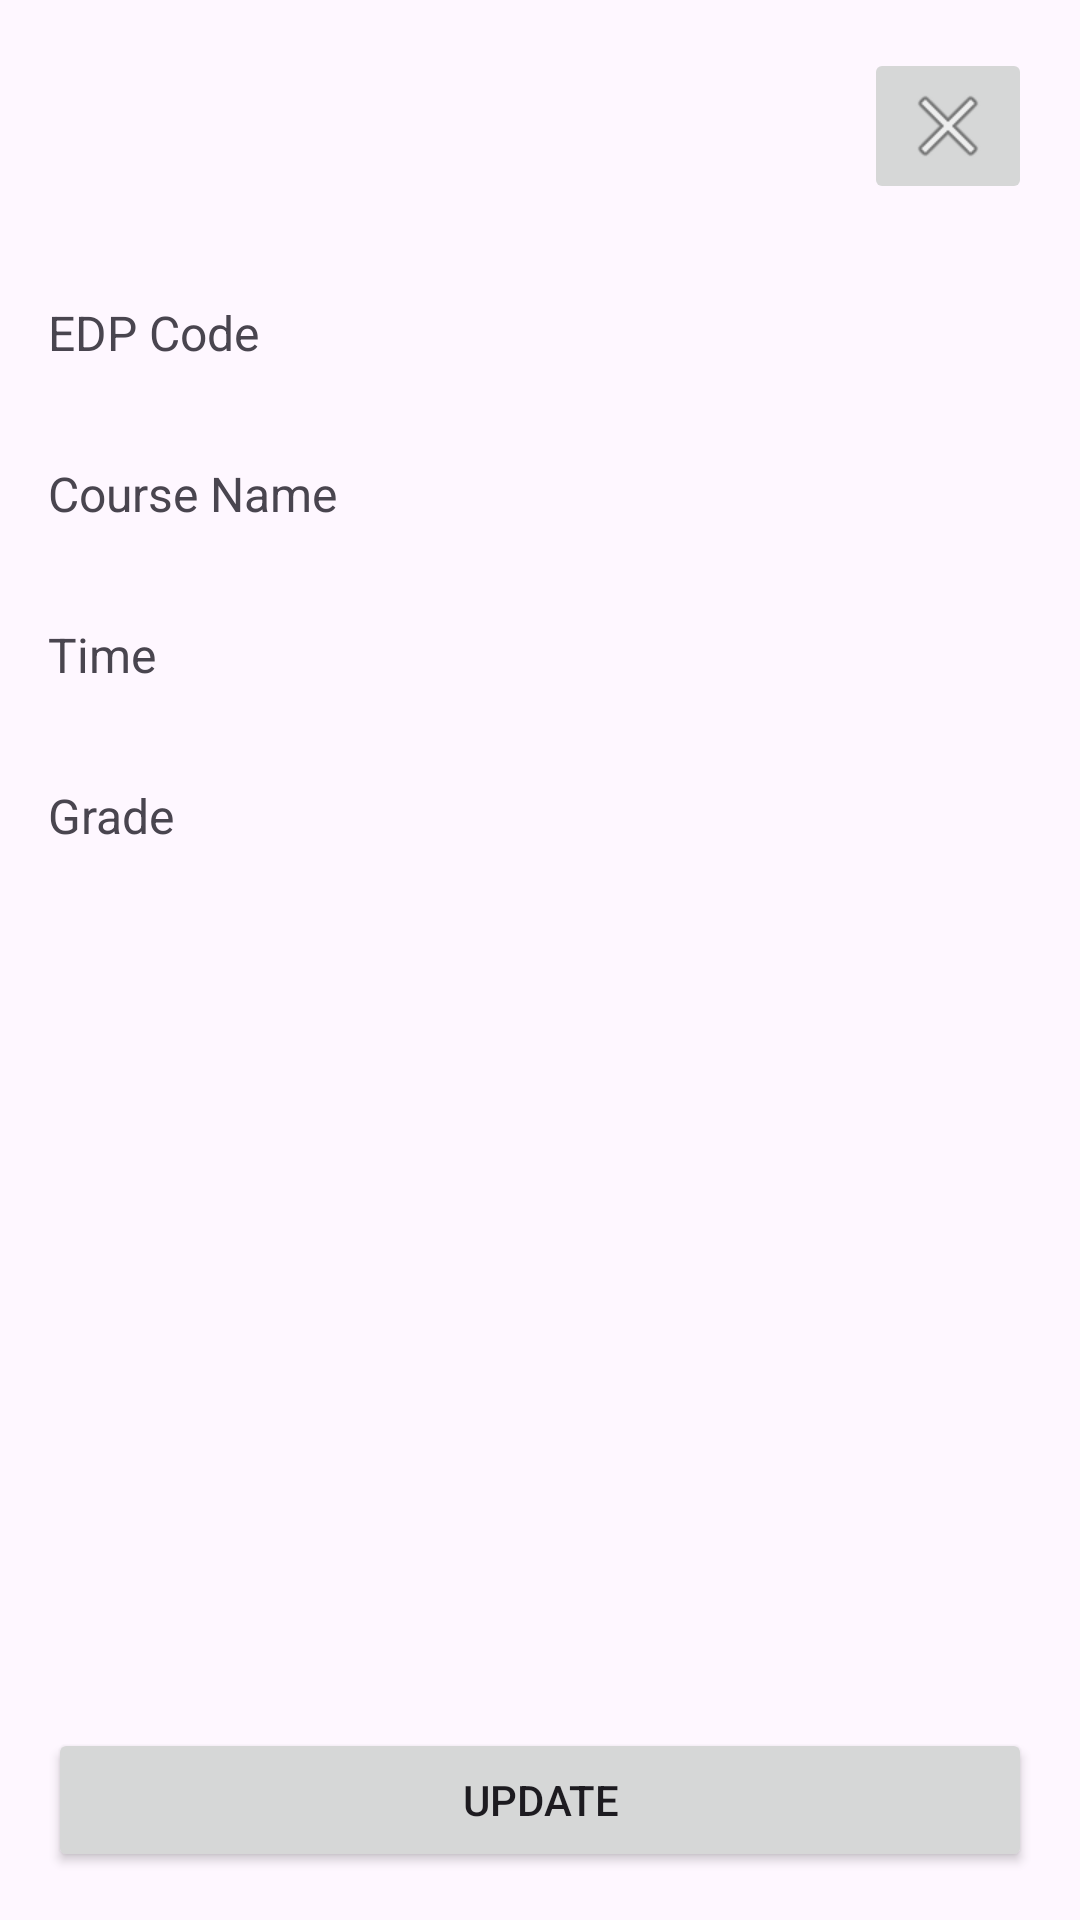

Screen size 1080px x 1920px. Icon name, then its box in pixels as (x1, y1, x2, y2):
close clear cancel: (876, 66, 1020, 186)
